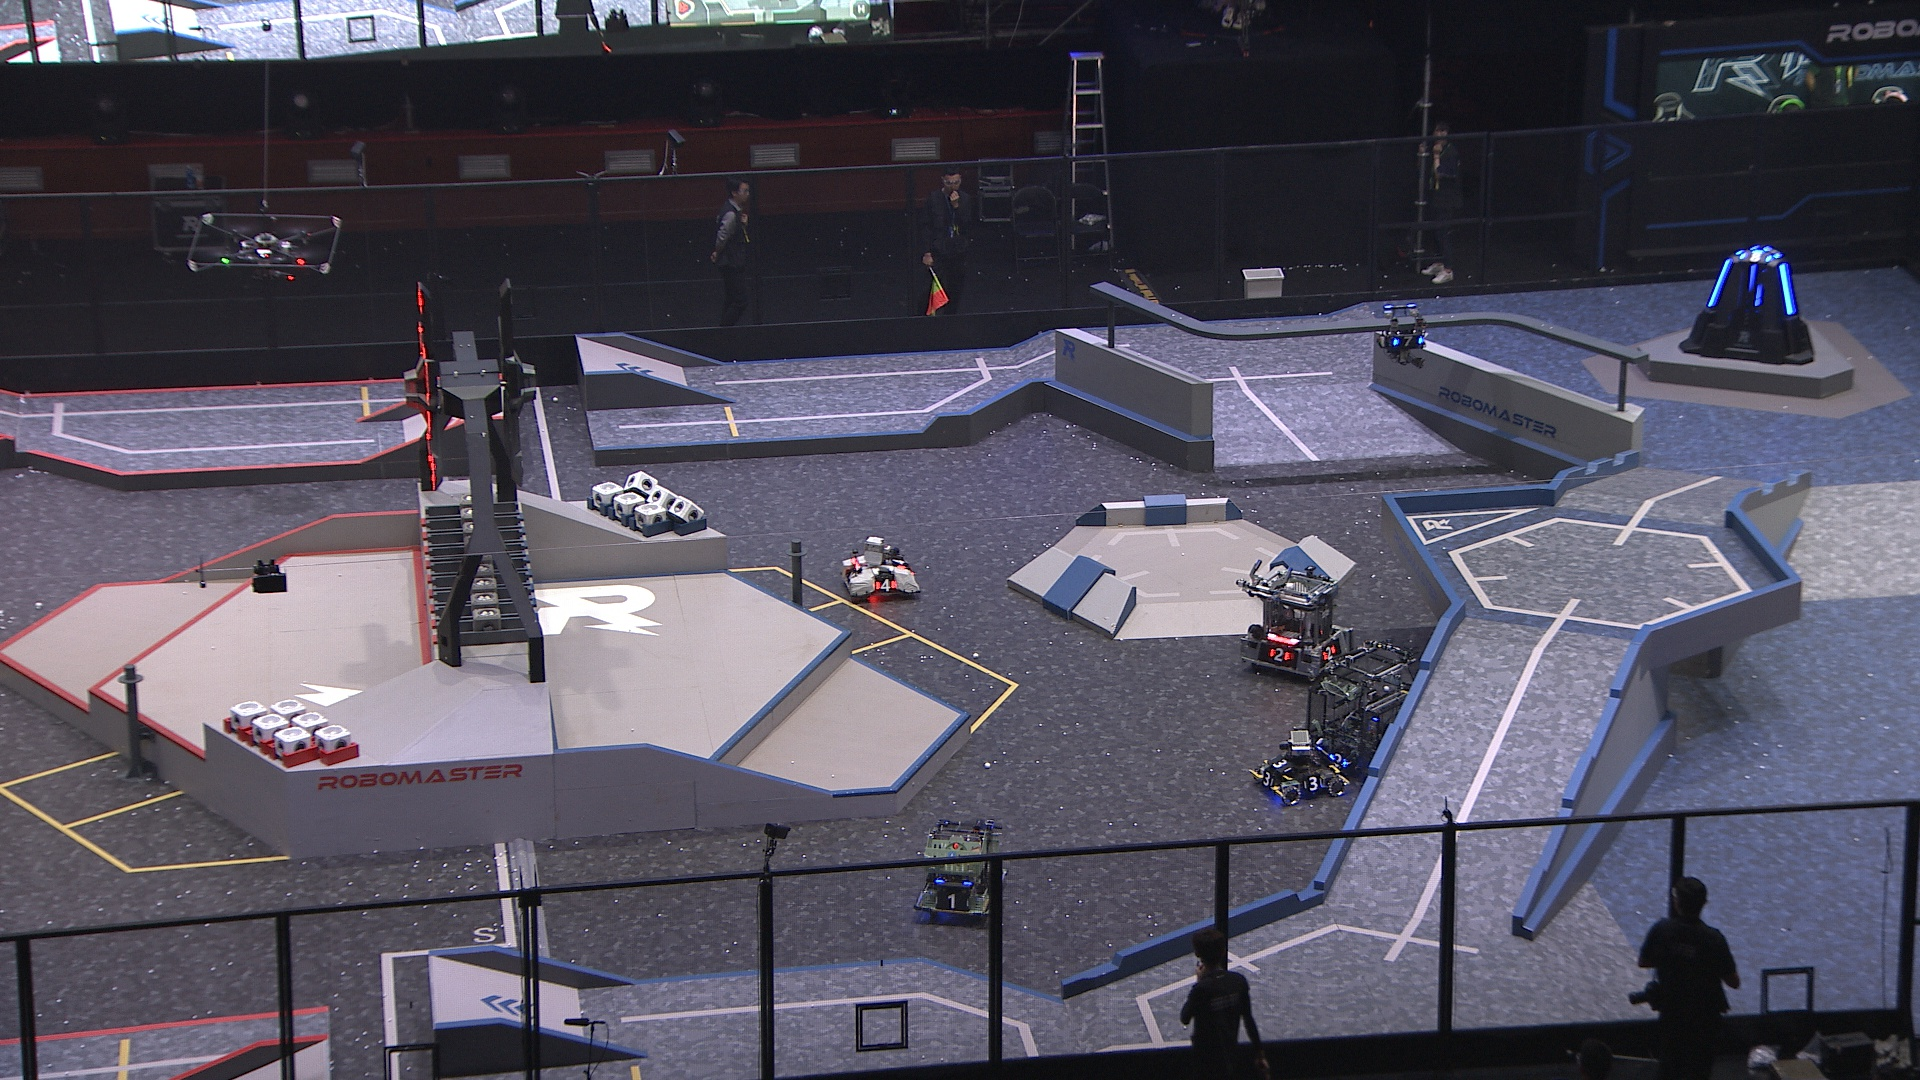armor: (1705, 258, 1731, 309), (1778, 262, 1793, 314), (936, 891, 969, 913), (1391, 334, 1424, 351), (1741, 247, 1774, 262), (1266, 646, 1291, 665), (1302, 774, 1324, 794), (1329, 750, 1349, 771), (1269, 757, 1295, 773), (872, 578, 898, 593), (1319, 642, 1338, 662), (1258, 769, 1276, 789), (1747, 262, 1756, 294), (891, 555, 907, 568), (1753, 285, 1762, 306)
base: (1676, 245, 1816, 367)
car: (1305, 642, 1416, 771), (1233, 568, 1357, 683), (911, 818, 1007, 920), (1247, 728, 1348, 806), (841, 533, 923, 600)
watcher: (1375, 305, 1429, 365)
